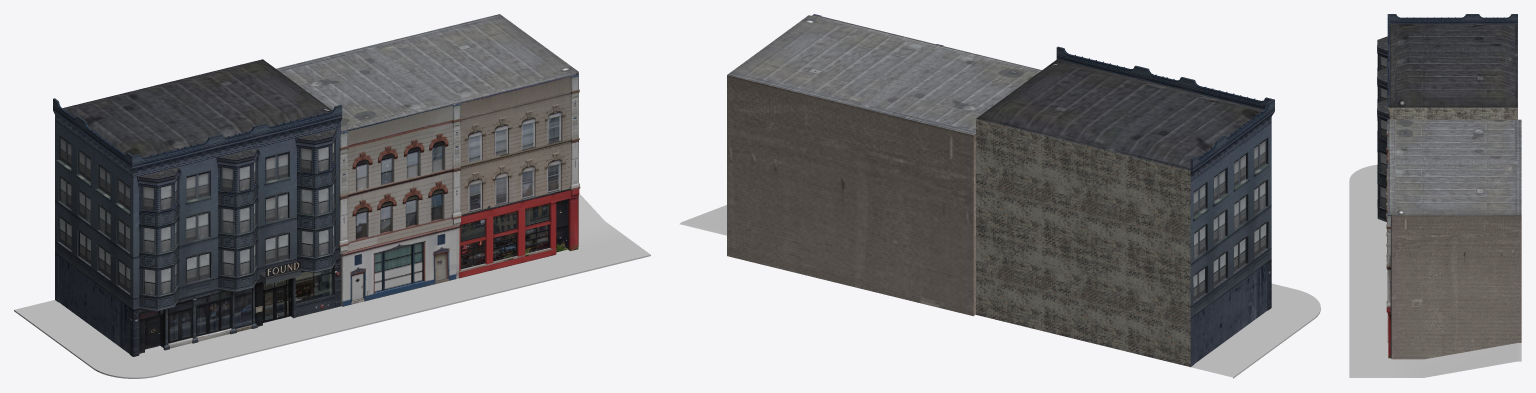
The model's file is BUildings set FBX.fbx.
3 renders of one model, left to right at view 1: azimuth 30°, elevation 25°; view 2: azimuth 150°, elevation 25°; view 3: azimuth 270°, elevation 25°, orthographic. The views are drawn at different scales.
Visible parts, largest first — view 1: Building black, Building, Sidewalks; view 2: Building, Bricks, Building black, Sidewalks; view 3: Building, Building black, Sidewalks, Bricks.
Boxes of the visible parts, <box> form: Building black: <box>53,59,342,356</box>; Building: <box>276,14,580,306</box>; Sidewalks: <box>14,193,650,378</box>; Building: <box>727,14,1041,316</box>; Bricks: <box>976,119,1190,366</box>; Building black: <box>976,46,1274,366</box>; Sidewalks: <box>679,205,1320,378</box>; Building: <box>1386,119,1521,359</box>; Building black: <box>1377,14,1517,221</box>; Sidewalks: <box>1349,164,1521,377</box>; Bricks: <box>1388,107,1517,119</box>.
Bounding box in the file's own units: 19789 × 7186 × 6726.
